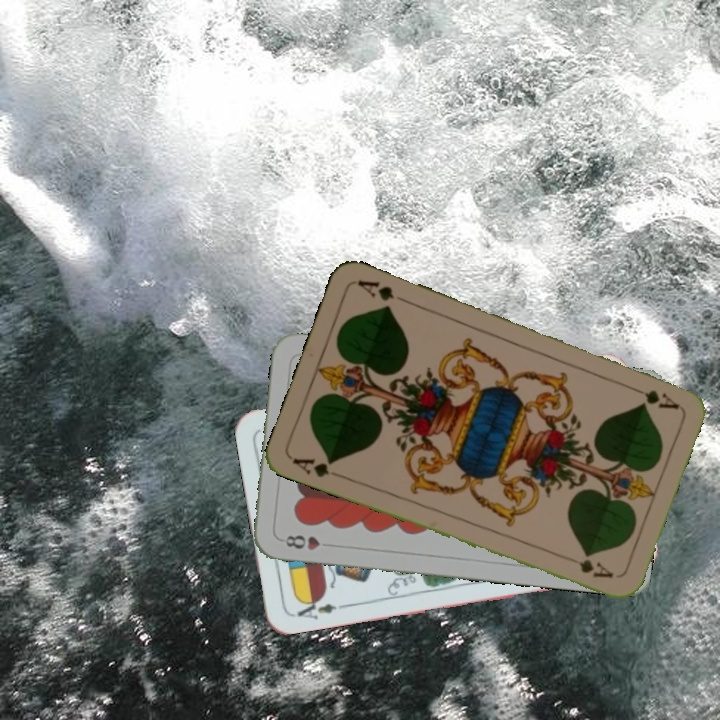EA: (288, 593, 347, 622)
GA: (625, 382, 682, 412), (288, 454, 346, 480)
H8: (281, 531, 336, 553)
